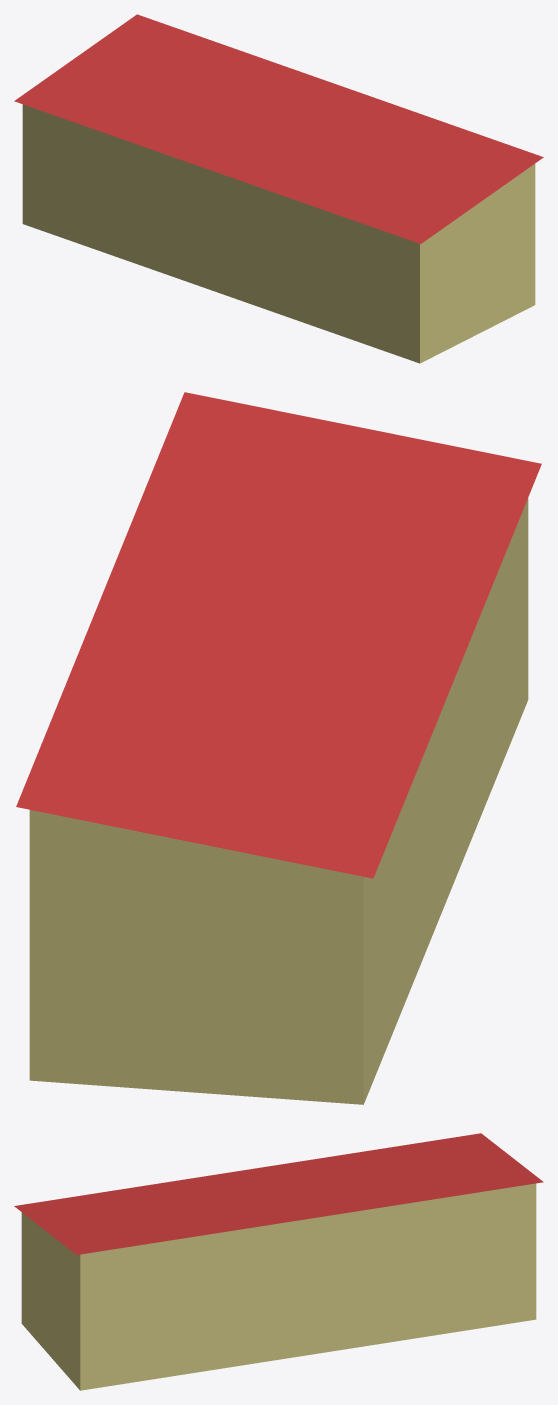
3 views of the same model, one above another, from view 1: azimuth 30°, elevation 25°; view 2: azimuth 150°, elevation 25°; view 3: azimuth 270°, elevation 25° (orthographic). The views are drawn at different scales.
Size of the model in its own units: 14.53 by 22.48 by 6.5.
